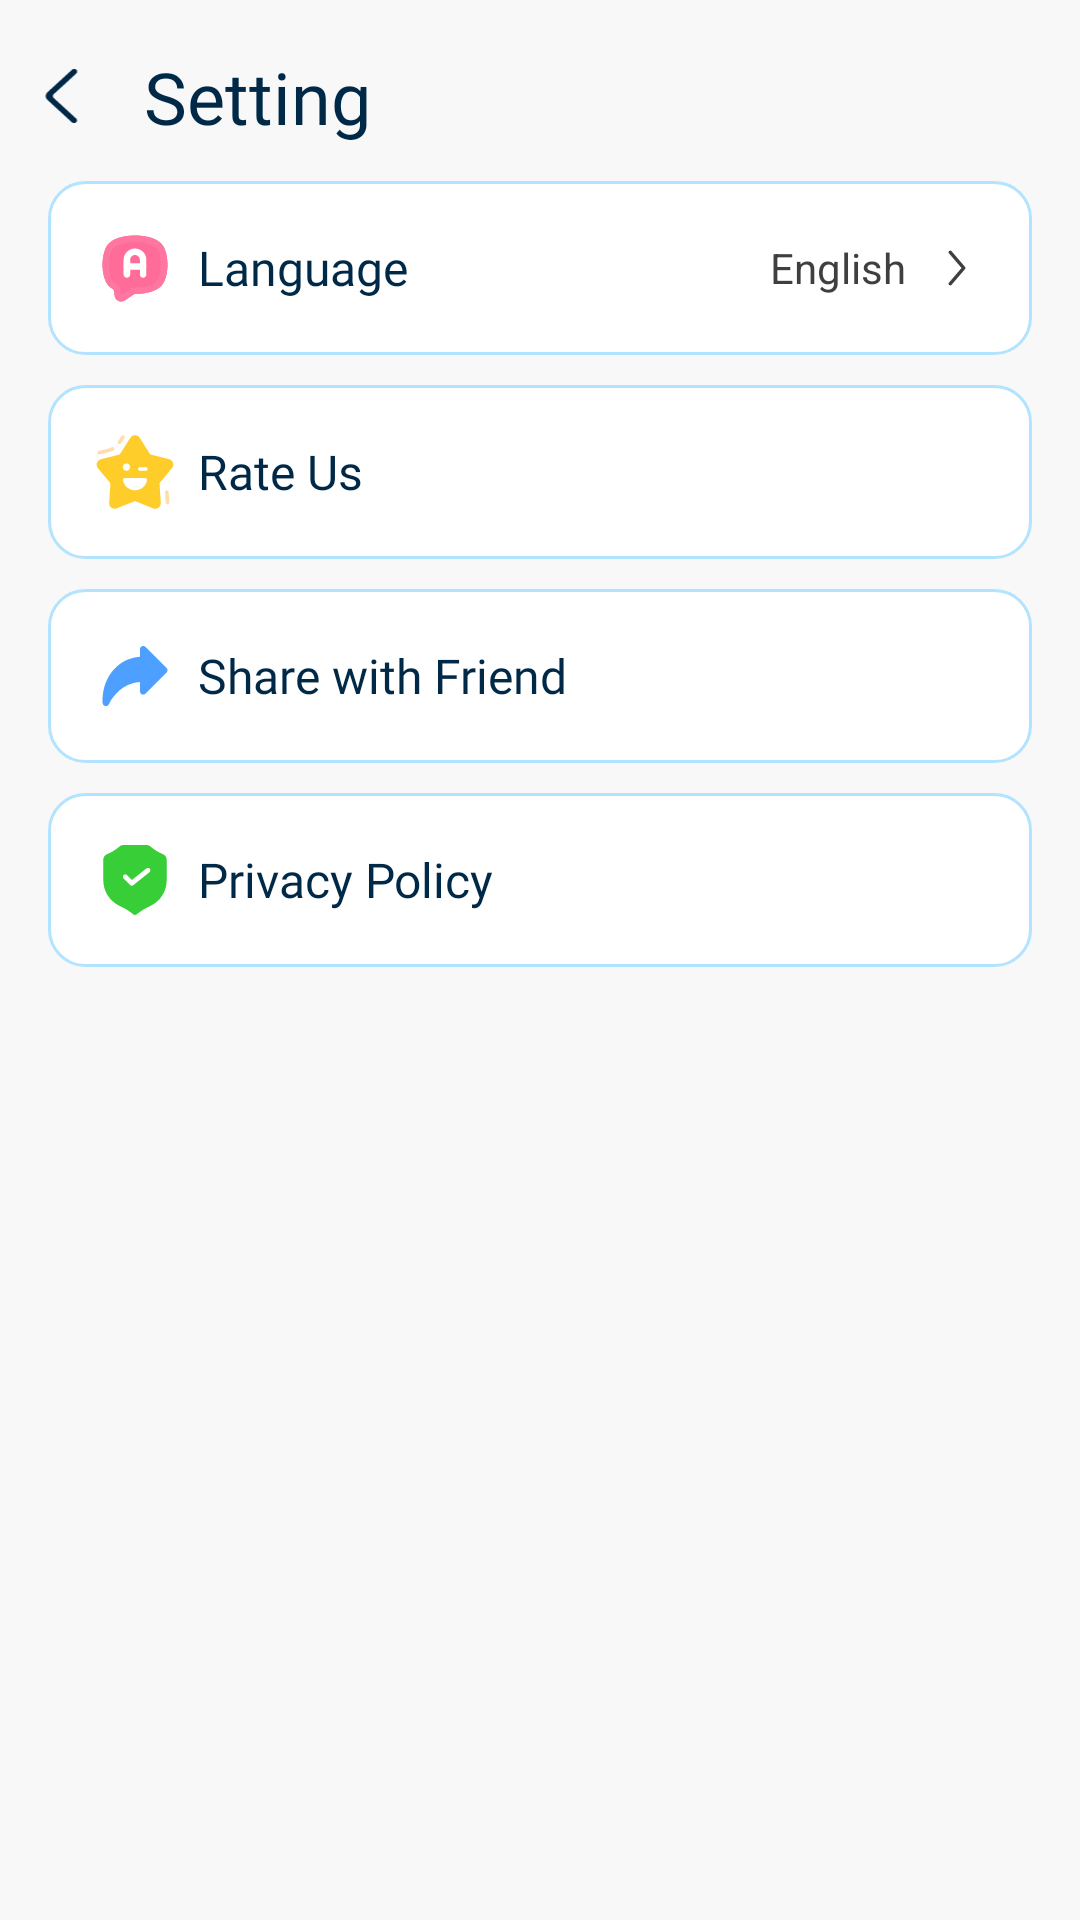

Icon bounding boxes for this 1080×1920 phone screenshot, format (x1, y1, x2, y2):
arrow: (948, 250, 966, 286)
back collection: (45, 69, 78, 123)
